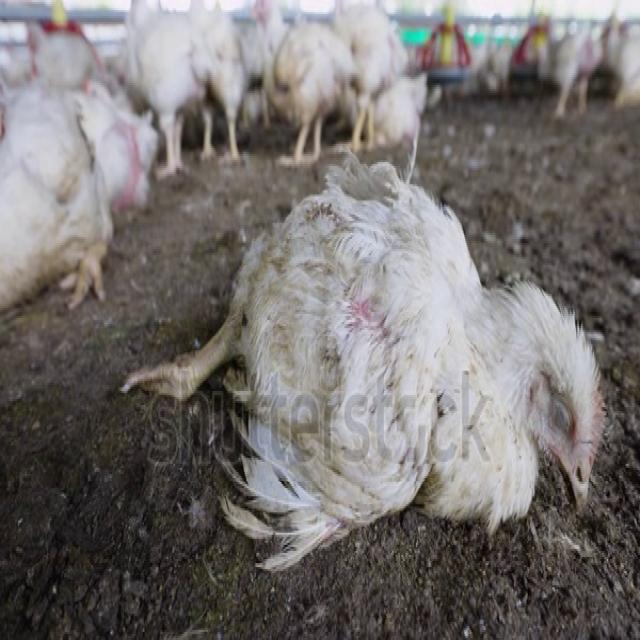injured-animals: (117, 144, 608, 577)
